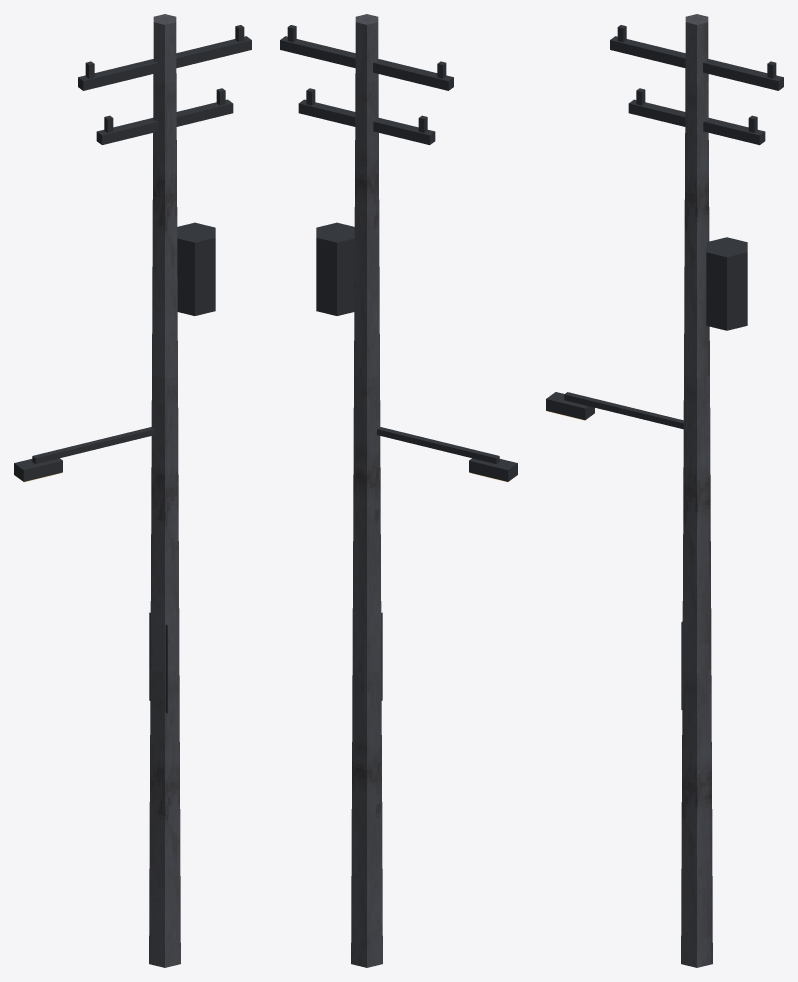
The model's file is street_pole.glb.
3 renders of one model, left to right at view 1: azimuth 30°, elevation 25°; view 2: azimuth 150°, elevation 25°; view 3: azimuth 330°, elevation 25°, orthographic.
Parts seen in each view (by area): view 1: street_pole; view 2: street_pole; view 3: street_pole.
Part boxes in pixels (x1,y1,x2,y2): street_pole: (14,14,251,967); street_pole: (280,14,517,967); street_pole: (546,14,783,967).
Size of the model in its own units: 2.46 by 9.6 by 0.3811.
3 materials, 3 textured.
